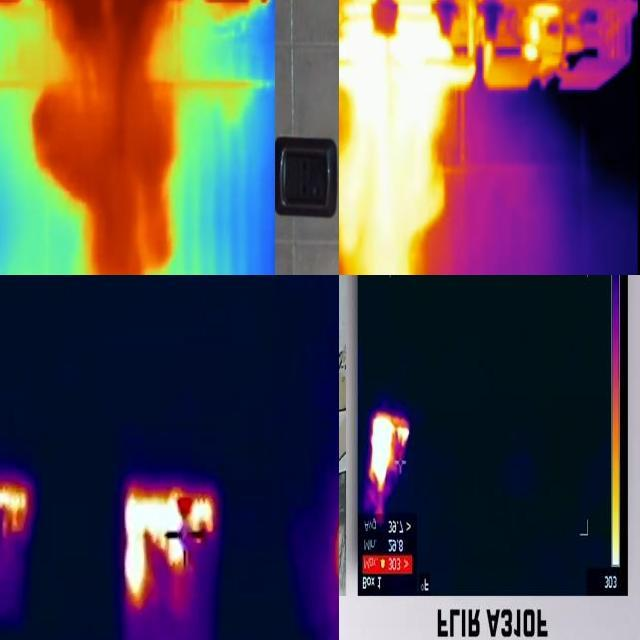fire: (341, 1, 453, 146), (123, 481, 219, 619), (33, 1, 177, 76), (368, 410, 411, 494), (1, 471, 34, 555)
